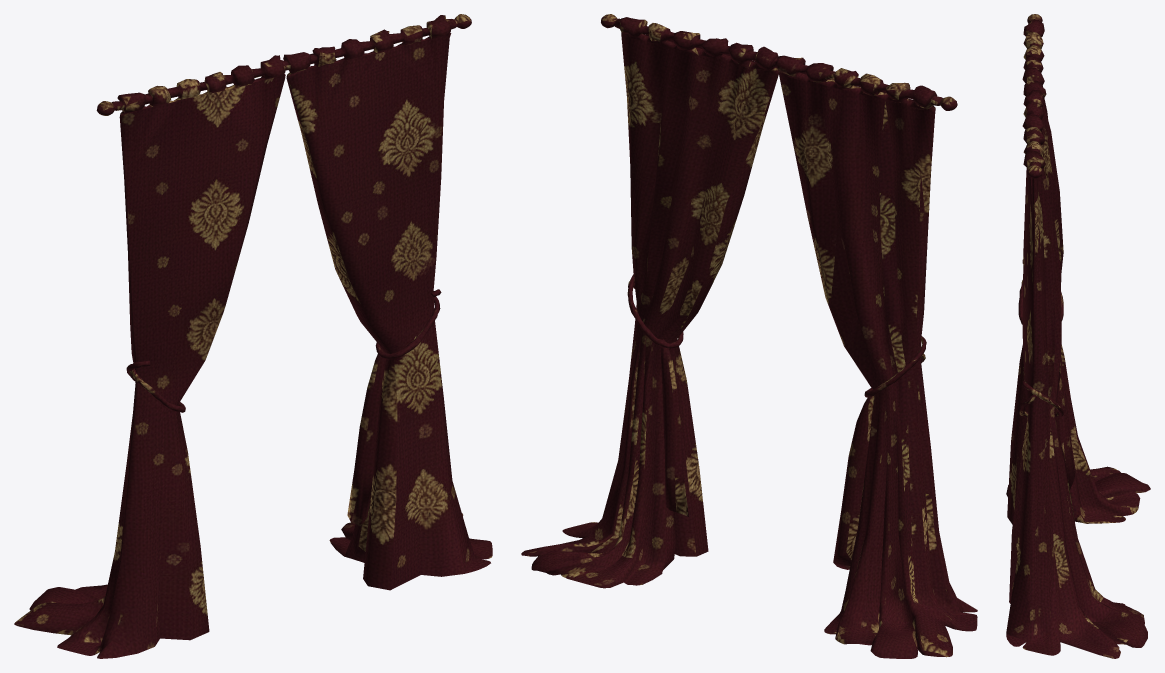
The model's file is CourtineV3_2.fbx.
3 renders of one model, left to right at view 1: azimuth 30°, elevation 25°; view 2: azimuth 150°, elevation 25°; view 3: azimuth 270°, elevation 25°, orthographic. The views are drawn at different scales.
Parts seen in each view (by area): view 1: meshes[0]; view 2: meshes[0]; view 3: meshes[0].
Boxes of the visible parts, left/top/right/bottom form: meshes[0]: left=14, top=14, right=492, bottom=658; meshes[0]: left=521, top=14, right=977, bottom=658; meshes[0]: left=1006, top=14, right=1150, bottom=658.
Size of the model in its own units: 0.7854 by 2.46 by 2.85.
Materials: 1 (1 with a texture image).
